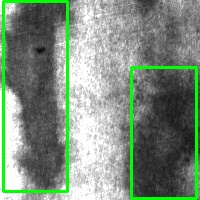patches: (3, 1, 67, 191), (131, 67, 196, 198)
